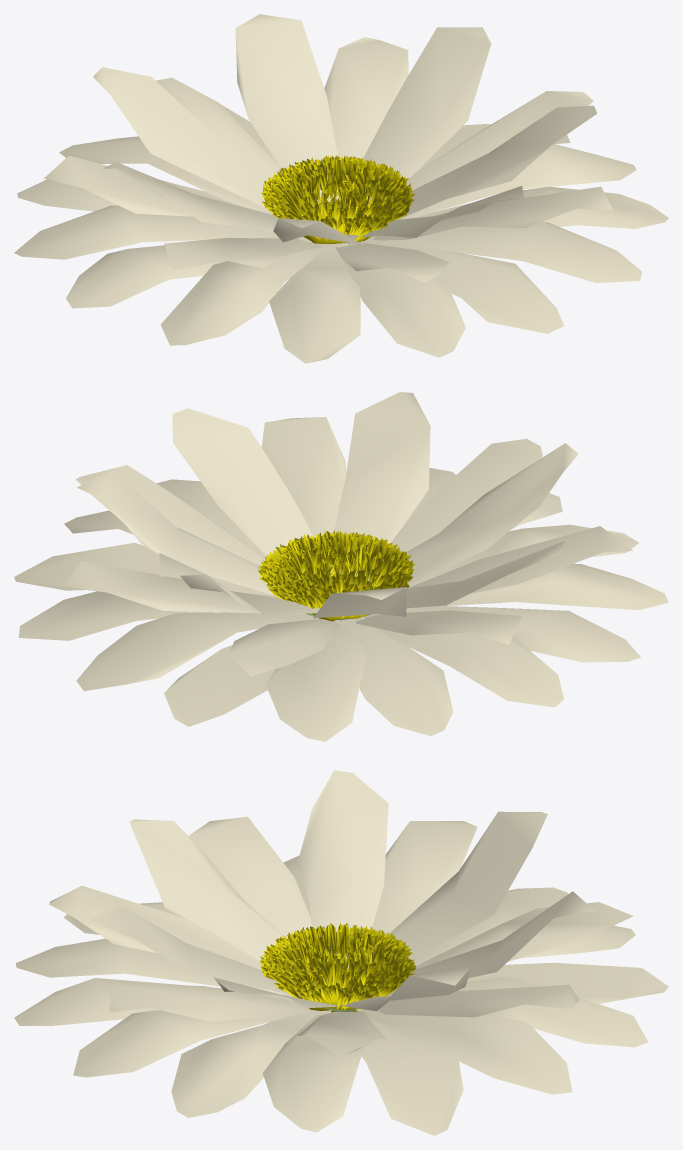
The picture shows the model from 3 angles, top to bottom: view 1: azimuth 30°, elevation 25°; view 2: azimuth 150°, elevation 25°; view 3: azimuth 270°, elevation 25°; orthographic projection.
Parts seen in each view (by area): view 1: flover; view 2: flover; view 3: flover.
Part boxes in pixels (x1,y1,x2,y2): flover: [14, 14, 668, 363]; flover: [14, 392, 668, 741]; flover: [14, 770, 668, 1135].
Bounding box in the file's own units: 0.8116 × 0.2702 × 0.8077.
